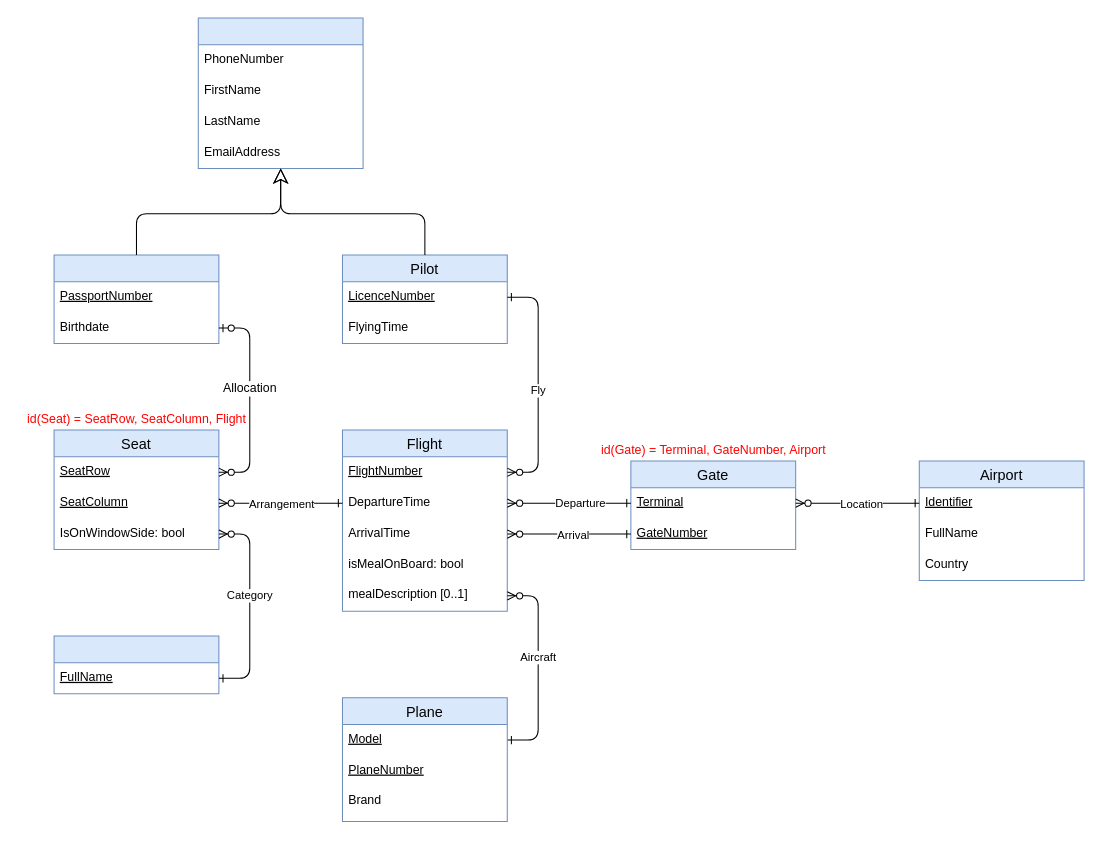
Some shapes in this 1102 by 843 pixel diagram are drawn without their labels. The shapes that lost their labels are listed below. From the top down, each one's box as (x1, y1, x2, y2) in pixels, then its label:
(197, 17, 363, 168): Person
(53, 254, 219, 344): Passenger
(53, 635, 219, 694): Class
